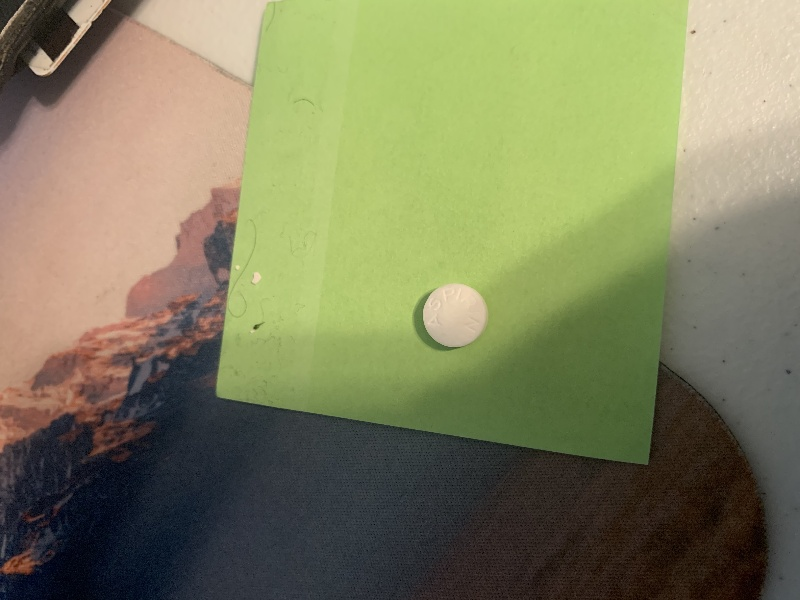Aspirin: (420, 277, 490, 350)
